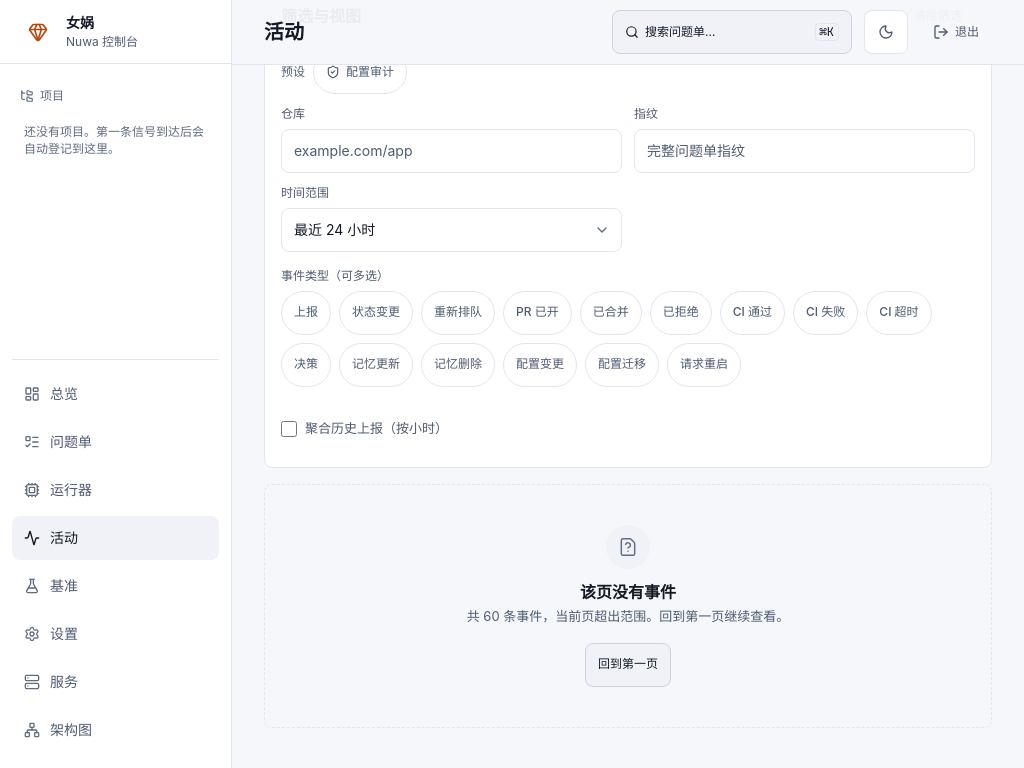
EventsPage › recovers from an out-of-range page
(page scrolled)
Expected: the heading "该页没有事件" is shown, [580,582,676,602]
Expected: the text "共 60 条事件，当前页超出范围。回到第一页继续查看。" is shown, [467,607,789,627]
Click the button "回到第一页" at (628, 665), box [585,643,671,687]
(page scrolled)
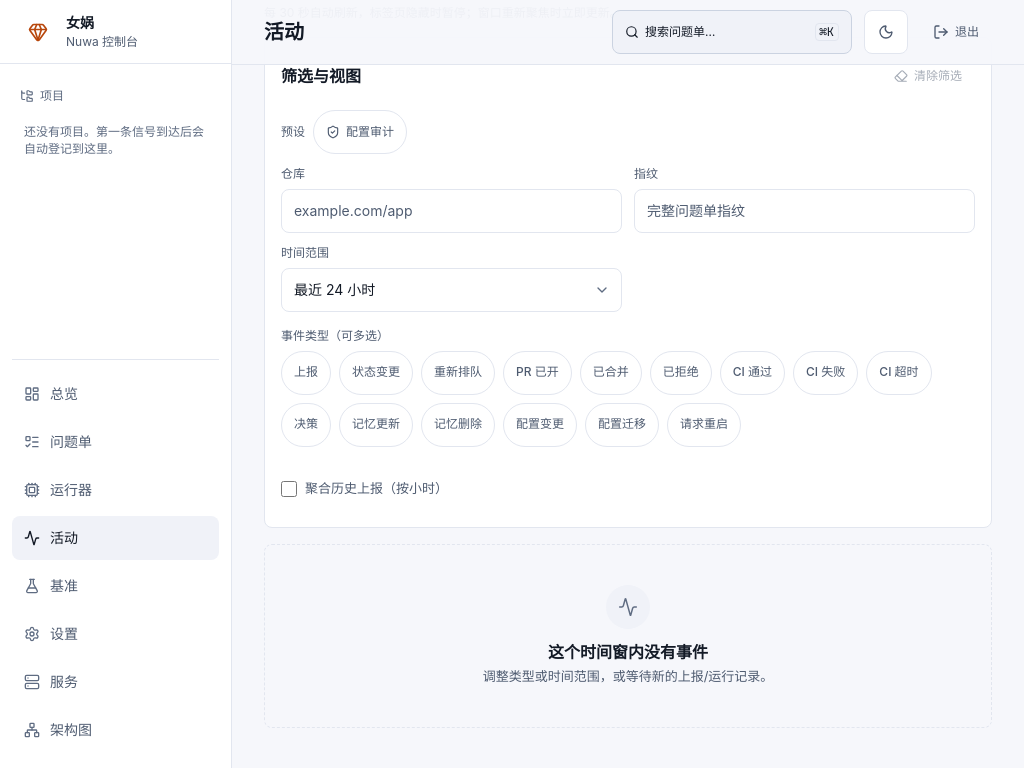
Result: the heading "这个时间窗内没有事件" is shown at [548,642,708,662]
